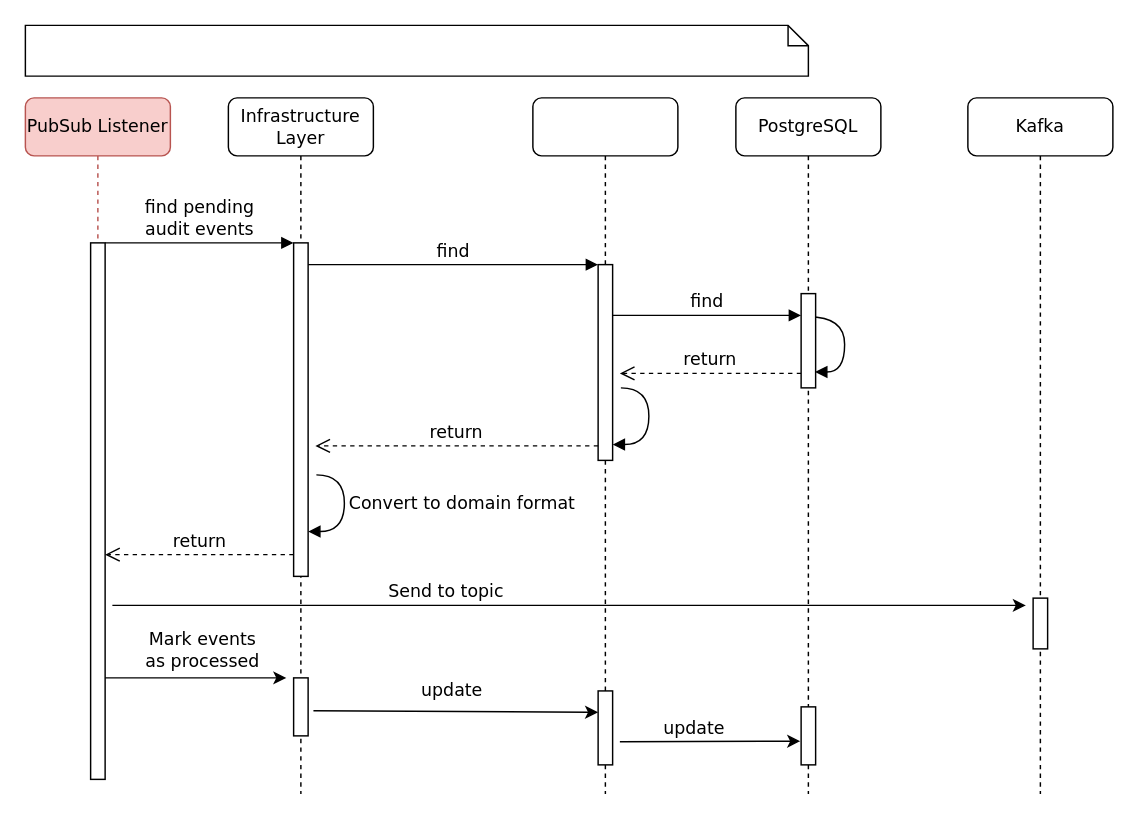
The diagram is 1138 pixels wide and 819 high, and some of its shapes have lost their labels. Each missing label, with the centre of its shape:
"DAO Layer" belongs at point 604,445.
"onMessage received on channel, send to kafka" belongs at point 416,50.
